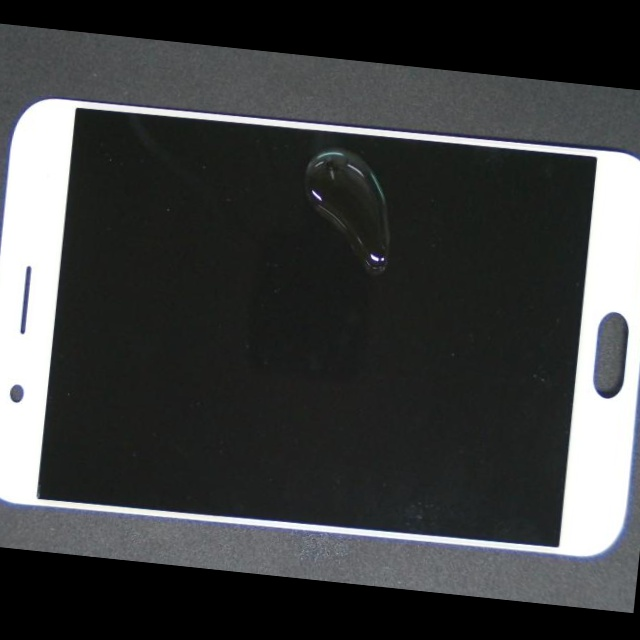oil: (197, 122, 569, 248)
